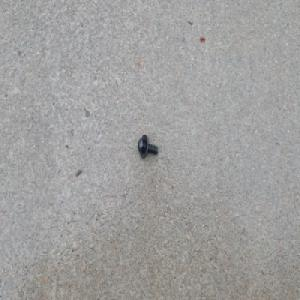BoltWasher: (137, 133, 158, 159)
